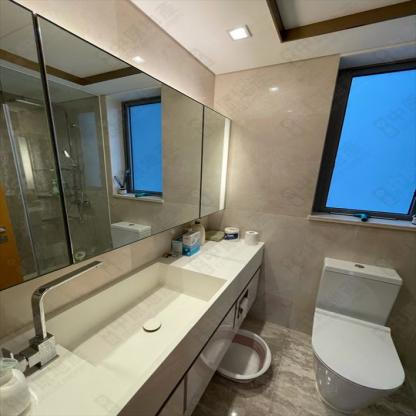Faucet: (32, 259, 111, 338)
Toilet: (308, 255, 404, 412)
Toilet Sink: (37, 261, 225, 382)
